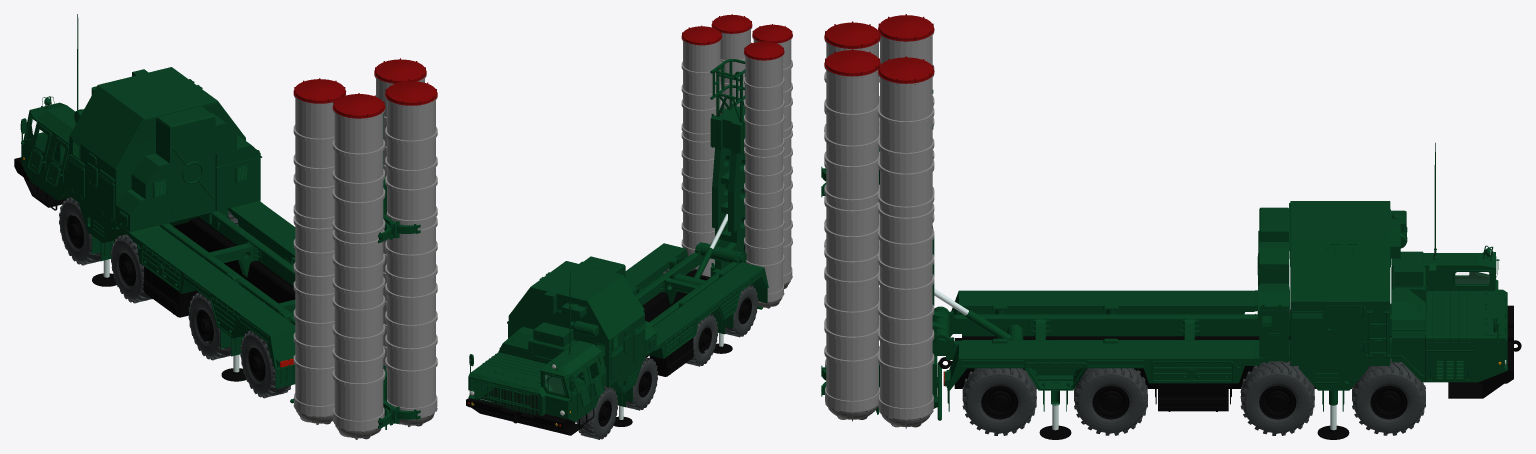
File: ver2_2.fbx
3 renders of one model, left to right at view 1: azimuth 30°, elevation 25°; view 2: azimuth 150°, elevation 25°; view 3: azimuth 270°, elevation 25°, orthographic. The views are drawn at different scales.
Visible parts, largest first — view 1: Anti-aircraft missile system S-300 все ТПК.002, Anti-aircraft missile system S-300 Favorit.1543(осн), Anti-aircraft missile system S-300 Favorit.колеса, Anti-aircraft missile system S-300 домкраты (верх), Anti-aircraft missile system S-300 все ТПК.001, Anti-aircraft_missile_system_S-300_КЧ, Anti-aircraft missile system S-300 домкраты (низ); view 2: Anti-aircraft missile system S-300 Favorit.1543(осн), Anti-aircraft missile system S-300 все ТПК.002, Anti-aircraft missile system S-300 все ТПК.001, Anti-aircraft_missile_system_S-300_КЧ, Anti-aircraft missile system S-300 Favorit.колеса, Anti-aircraft missile system S-300 домкраты (верх), Anti-aircraft missile system S-300 домкраты (низ), Anti-aircraft missile system S-300 ГЦ под/опуск КЧ; view 3: Anti-aircraft missile system S-300 Favorit.1543(осн), Anti-aircraft missile system S-300 все ТПК.002, Anti-aircraft missile system S-300 все ТПК.001, Anti-aircraft missile system S-300 Favorit.колеса, Anti-aircraft missile system S-300 домкраты (верх), Anti-aircraft_missile_system_S-300_КЧ, Anti-aircraft missile system S-300 домкраты (низ).
Boxes of the visible parts, left/top/right/bottom form: Anti-aircraft missile system S-300 все ТПК.002: left=293, top=78, right=437, bottom=439; Anti-aircraft missile system S-300 Favorit.1543(осн): left=14, top=14, right=295, bottom=388; Anti-aircraft missile system S-300 Favorit.колеса: left=59, top=197, right=291, bottom=398; Anti-aircraft missile system S-300 домкраты (верх): left=79, top=203, right=250, bottom=380; Anti-aircraft missile system S-300 все ТПК.001: left=374, top=58, right=426, bottom=371; Anti-aircraft_missile_system_S-300_КЧ: left=290, top=114, right=420, bottom=429; Anti-aircraft missile system S-300 домкраты (низ): left=92, top=259, right=246, bottom=381; Anti-aircraft missile system S-300 Favorit.1543(осн): left=466, top=242, right=768, bottom=435; Anti-aircraft missile system S-300 все ТПК.002: left=711, top=14, right=792, bottom=308; Anti-aircraft missile system S-300 все ТПК.001: left=681, top=25, right=722, bottom=276; Anti-aircraft_missile_system_S-300_КЧ: left=707, top=59, right=762, bottom=309; Anti-aircraft missile system S-300 Favorit.колеса: left=504, top=268, right=758, bottom=439; Anti-aircraft missile system S-300 домкраты (верх): left=615, top=273, right=740, bottom=407; Anti-aircraft missile system S-300 домкраты (низ): left=613, top=333, right=732, bottom=426; Anti-aircraft missile system S-300 ГЦ под/опуск КЧ: left=675, top=247, right=713, bottom=285; Anti-aircraft missile system S-300 Favorit.1543(осн): left=932, top=142, right=1521, bottom=411; Anti-aircraft missile system S-300 все ТПК.002: left=824, top=14, right=934, bottom=421; Anti-aircraft missile system S-300 все ТПК.001: left=878, top=56, right=934, bottom=428; Anti-aircraft missile system S-300 Favorit.колеса: left=962, top=309, right=1425, bottom=435; Anti-aircraft missile system S-300 домкраты (верх): left=1024, top=365, right=1368, bottom=411; Anti-aircraft_missile_system_S-300_КЧ: left=821, top=90, right=949, bottom=420; Anti-aircraft missile system S-300 домкраты (низ): left=1039, top=404, right=1349, bottom=439.
Size of the model in its own units: 9689 by 22692 by 39678.
